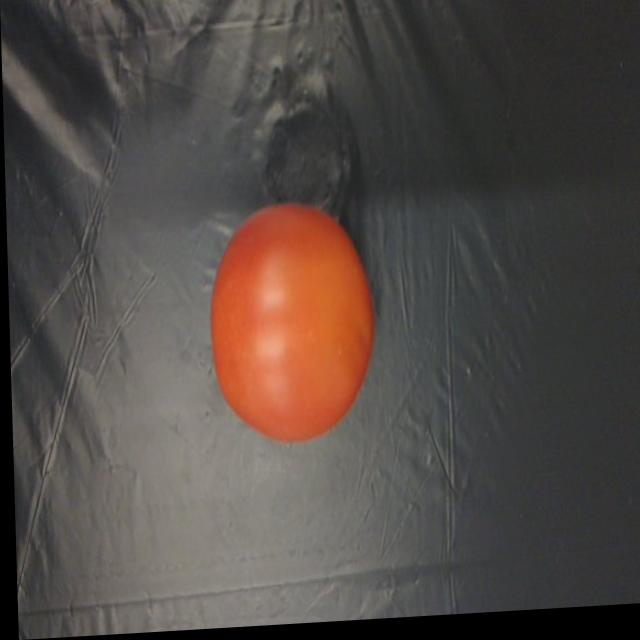sari: (190, 194, 389, 458)
